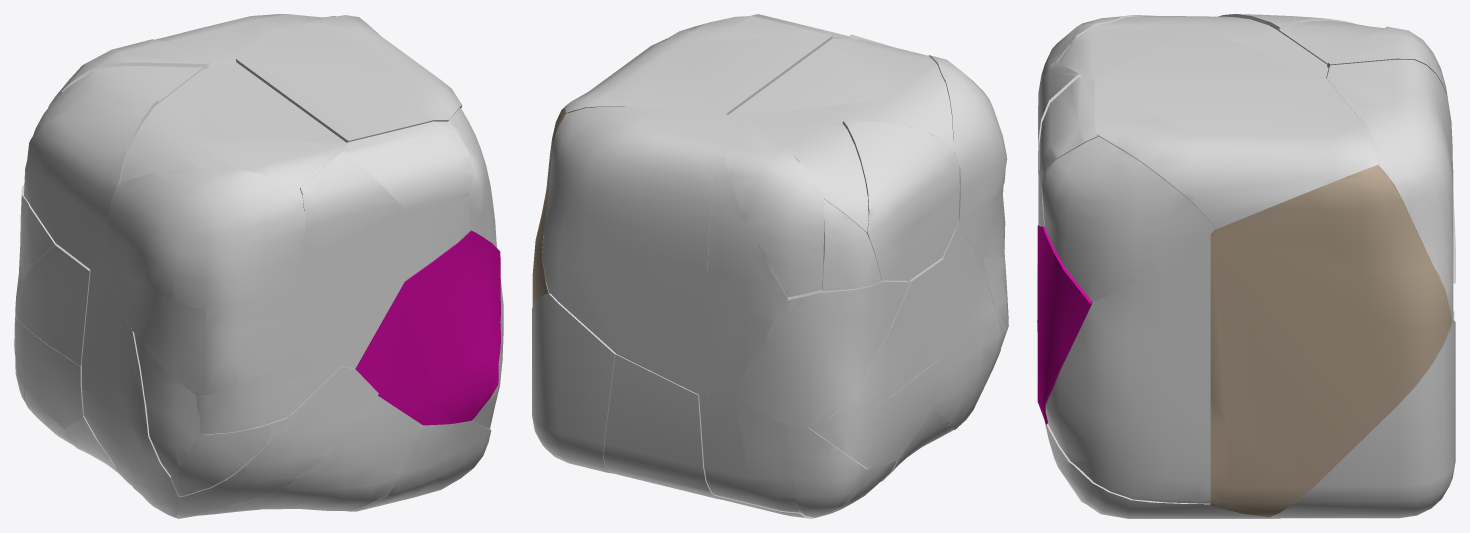
The model's file is Fractured_Ice_Break.fbx.
3 views of the same model, side by side, from view 1: azimuth 30°, elevation 25°; view 2: azimuth 150°, elevation 25°; view 3: azimuth 270°, elevation 25° (orthographic). The views are drawn at different scales.
Parts seen in each view (by area): view 1: Cube_cell.024, Cube_cell.005, Cube_cell.023, Cube_cell.034, Cube_cell.025, Cube_cell.021, Cube_cell.035, Cube_cell.008, Cube_cell.012, Cube_cell.006, Cube_cell.030, Cube_cell.027 (+14 smaller); view 2: Cube_cell.019, Cube_cell.013, Cube_cell.025, Cube_cell.034, Cube_cell.021, Cube_cell.014, Cube_cell.016, Cube_cell.018, Cube_cell.033, Cube_cell.008, Cube_cell.002, Cube_cell.003 (+10 smaller); view 3: Cube_cell.026, Cube_cell.001, Cube_cell.025, Cube_cell.020, Cube_cell.014, Cube_cell.019, Cube_cell.034, Cube_cell.005, Cube_cell.028, Cube_cell.030, Cube_cell.016, Cube_cell.011 (+3 smaller).
Boxes of the visible parts, box(x1,y1,x2,y2) form: Cube_cell.024: box(106, 168, 305, 315); Cube_cell.005: box(355, 230, 501, 425); Cube_cell.023: box(297, 151, 404, 368); Cube_cell.034: box(119, 62, 347, 188); Cube_cell.025: box(235, 15, 462, 142); Cube_cell.021: box(26, 98, 158, 269); Cube_cell.035: box(104, 254, 316, 395); Cube_cell.008: box(81, 260, 179, 517); Cube_cell.012: box(175, 395, 422, 518); Cube_cell.006: box(177, 366, 378, 514); Cube_cell.030: box(344, 121, 473, 210); Cube_cell.027: box(196, 346, 340, 434); Cube_cell.019: box(542, 105, 746, 395); Cube_cell.013: box(732, 280, 909, 428); Cube_cell.025: box(564, 16, 832, 114); Cube_cell.034: box(729, 38, 952, 147); Cube_cell.021: box(842, 120, 959, 280); Cube_cell.014: box(532, 293, 615, 473); Cube_cell.016: box(724, 120, 824, 297); Cube_cell.018: box(707, 157, 789, 394); Cube_cell.033: box(604, 354, 720, 499); Cube_cell.008: box(933, 227, 1002, 429); Cube_cell.002: box(699, 394, 808, 512); Cube_cell.003: box(825, 258, 944, 421); Cube_cell.026: box(1210, 165, 1451, 517); Cube_cell.001: box(1045, 237, 1210, 503); Cube_cell.025: box(1094, 78, 1380, 228); Cube_cell.020: box(1041, 136, 1215, 303); Cube_cell.014: box(1272, 320, 1455, 518); Cube_cell.019: box(1326, 59, 1453, 319); Cube_cell.034: box(1057, 16, 1328, 79); Cube_cell.005: box(1037, 225, 1092, 424); Cube_cell.028: box(1044, 420, 1280, 518); Cube_cell.030: box(1039, 76, 1098, 185); Cube_cell.016: box(1327, 26, 1447, 96); Cube_cell.011: box(1278, 21, 1383, 64).
Size of the model in its own units: 203 by 202 by 202.
